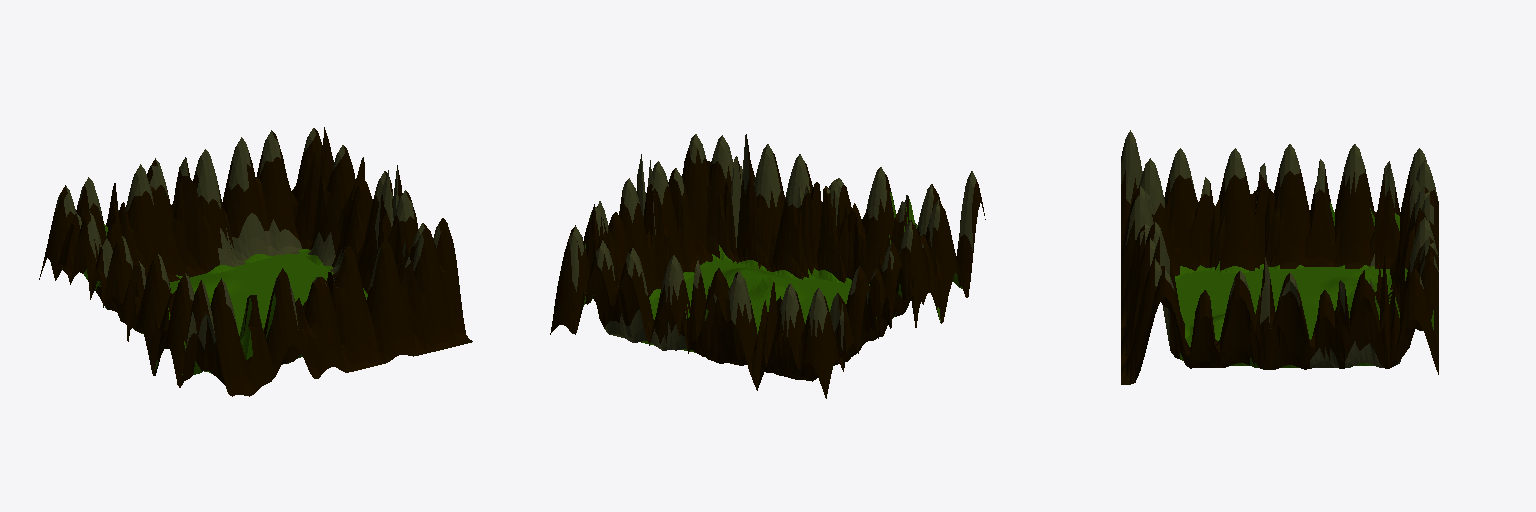
File: terrainLowPoly.obj
3 renders of one model, left to right at view 1: azimuth 30°, elevation 25°; view 2: azimuth 150°, elevation 25°; view 3: azimuth 270°, elevation 25°, orthographic.
Visible parts, largest first — view 1: Plane; view 2: Plane; view 3: Plane.
Part boxes in pixels (x1,y1,x2,y2): Plane: (39, 127, 472, 396); Plane: (550, 134, 985, 398); Plane: (1121, 130, 1438, 384).
Size of the model in its own units: 162 by 72.65 by 162.